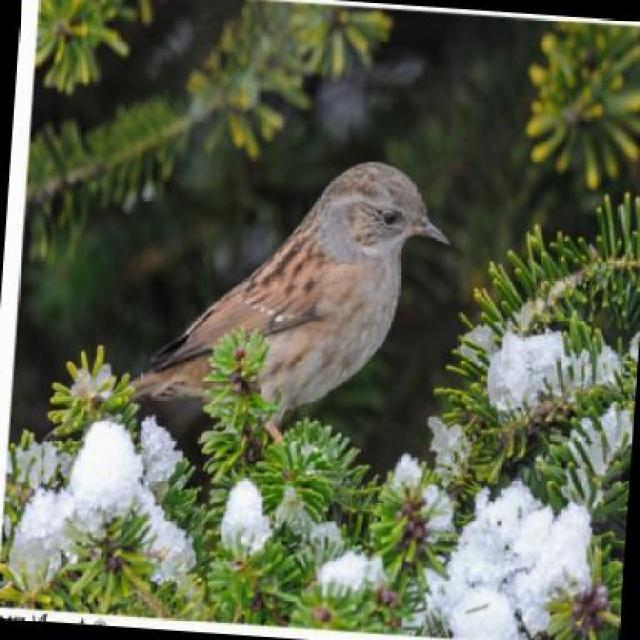Bird: (113, 148, 452, 446)
